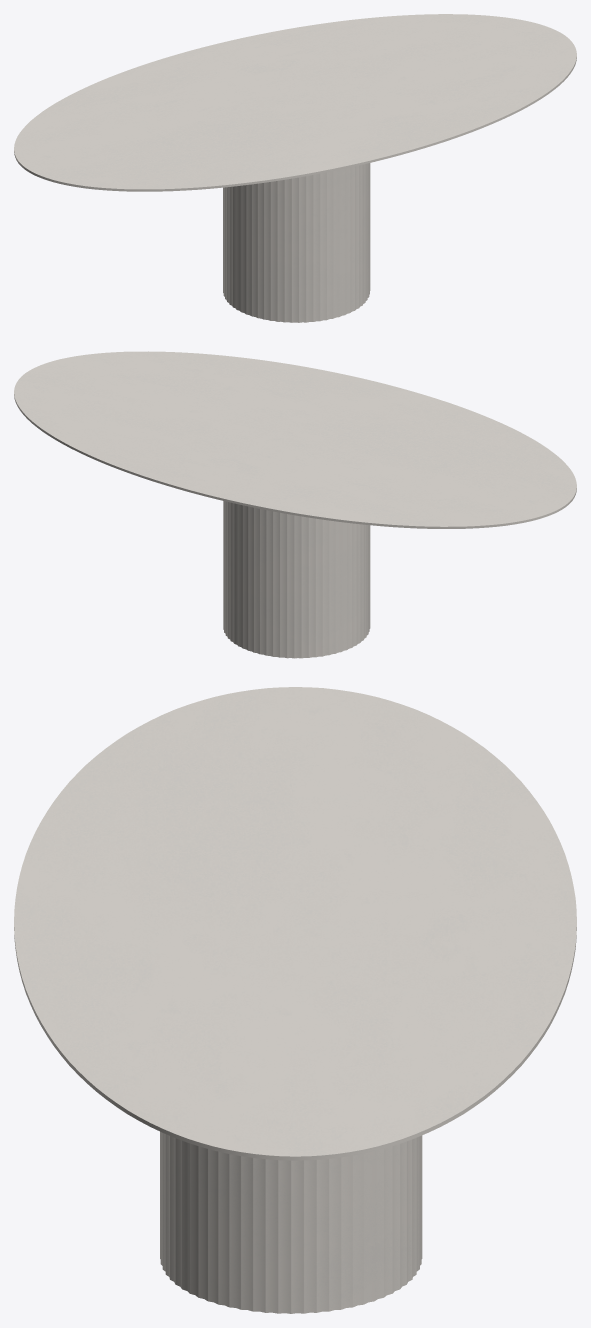
Rendered from purewhite_ellips_facet_ripple.glb.
The picture shows the model from 3 angles, top to bottom: view 1: azimuth 30°, elevation 25°; view 2: azimuth 150°, elevation 25°; view 3: azimuth 270°, elevation 25°; orthographic projection. The views are drawn at different scales.
Parts seen in each view (by area): view 1: facet_ellips, ripple; view 2: facet_ellips, ripple; view 3: facet_ellips, ripple.
Boxes of the visible parts, x1,y1,x2,y2 form: facet_ellips: (14, 14, 576, 191); ripple: (223, 163, 370, 322); facet_ellips: (14, 351, 576, 528); ripple: (223, 501, 370, 658); facet_ellips: (14, 687, 576, 1160); ripple: (160, 1131, 422, 1313).
Bounding box in the file's own units: 7.5 × 2.51 × 3.8.
Materials: 1 (1 with a texture image).
